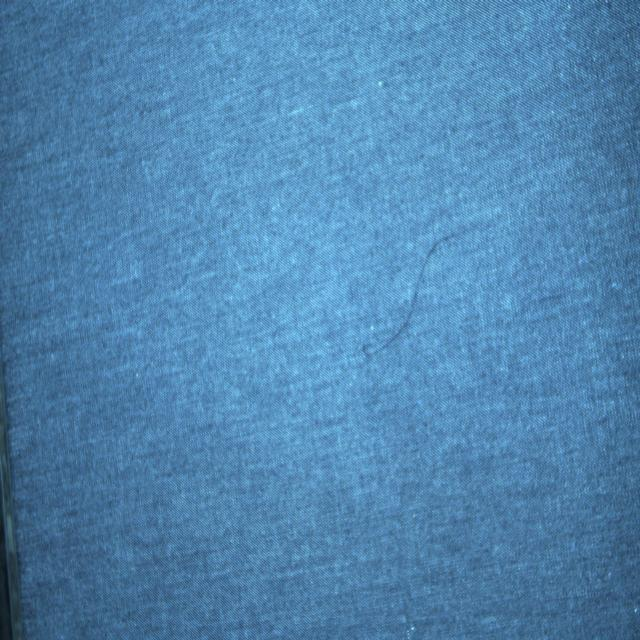defect: (361, 216, 499, 367)
